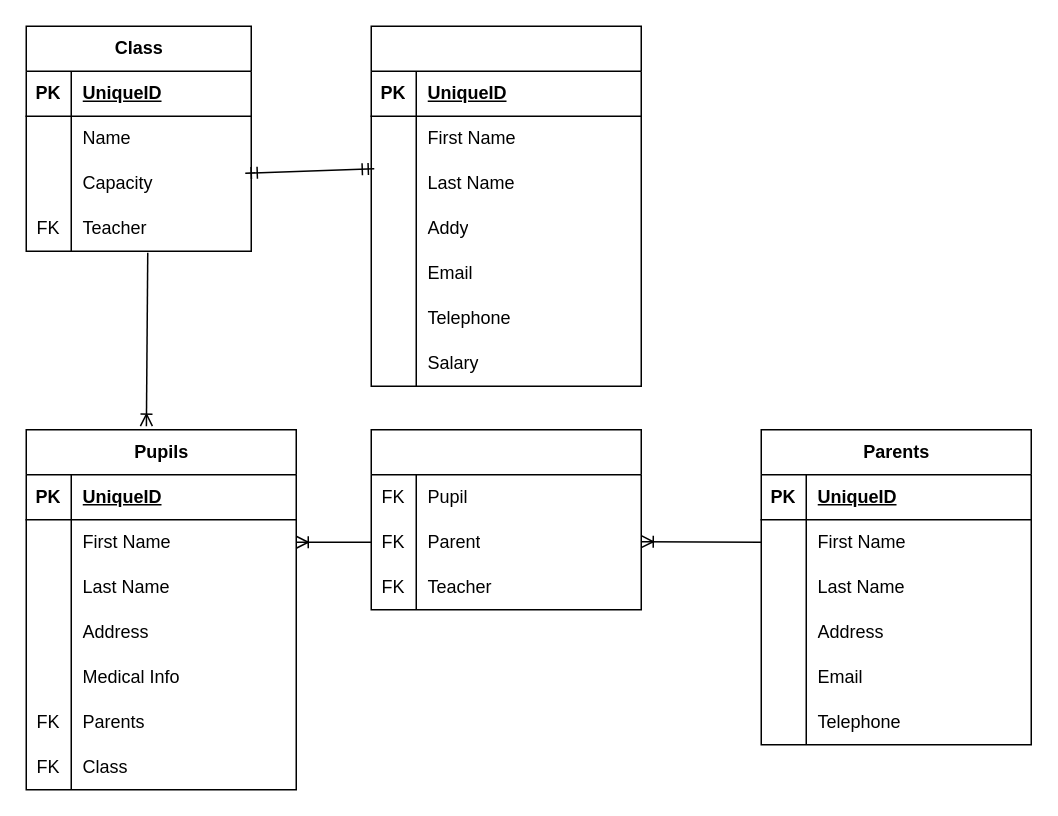
This 1058x816 diagram has some shape labels left out. Here are the shapes that lost their labels. From the top down, the box of each, then its label:
(370, 25, 641, 386): Teachers
(370, 428, 641, 610): Parent-Pupils
